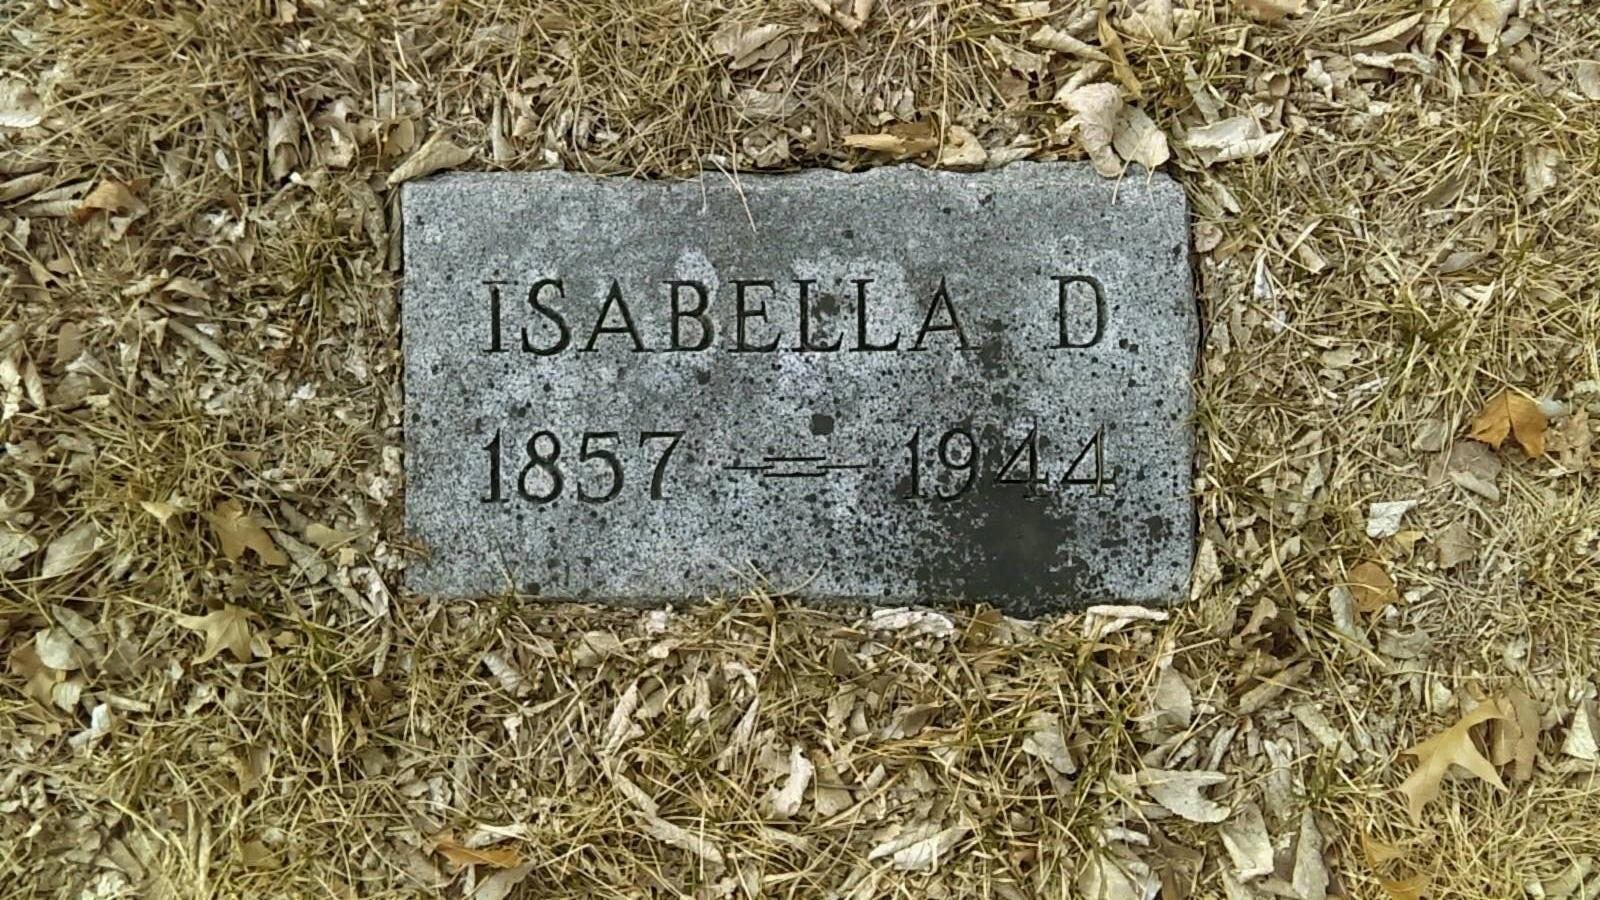flat: (381, 162, 1208, 615)
